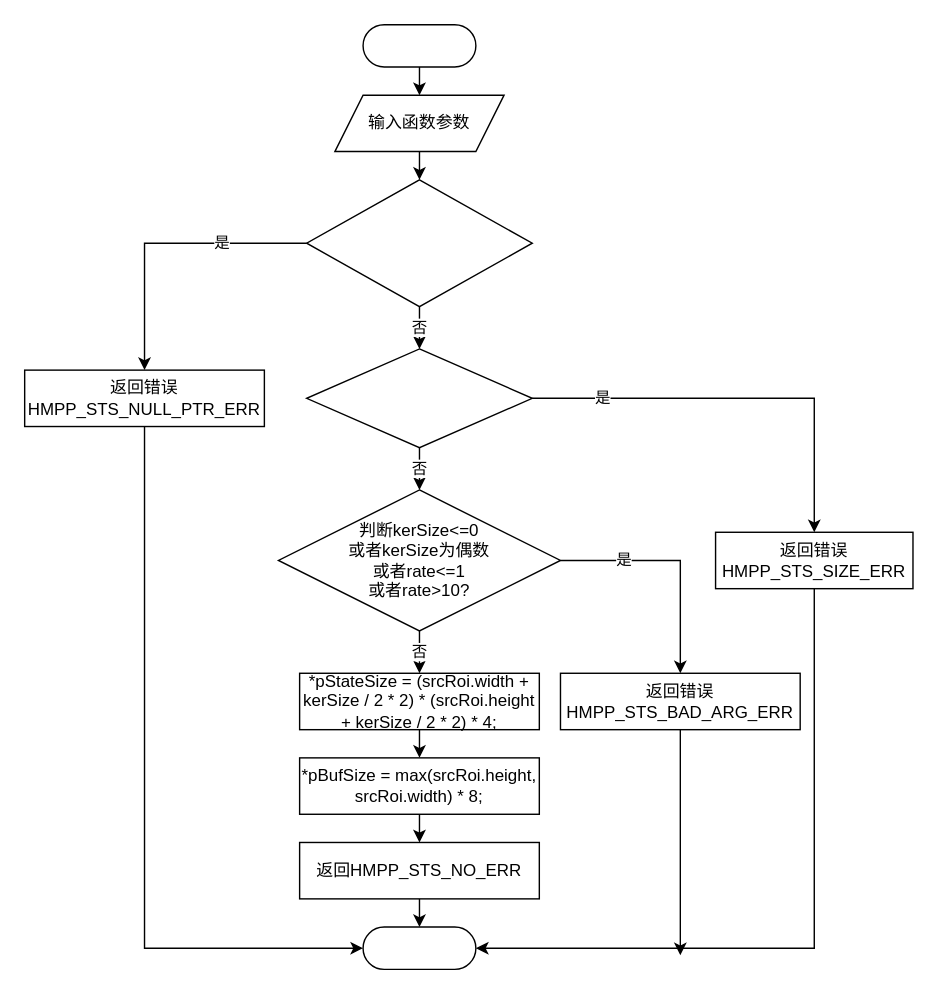
This 938x994 diagram has some shape labels left out. The centre of each missing label's shape, as x and y in pixels:
"判断pStateSize或者 pBufSize是否为空指针？" goes at point (418, 242).
"判断srcRoi的高或者宽 是否小于等于0？" goes at point (418, 398).
"开始" goes at point (419, 45).
"结束" goes at point (419, 947).
